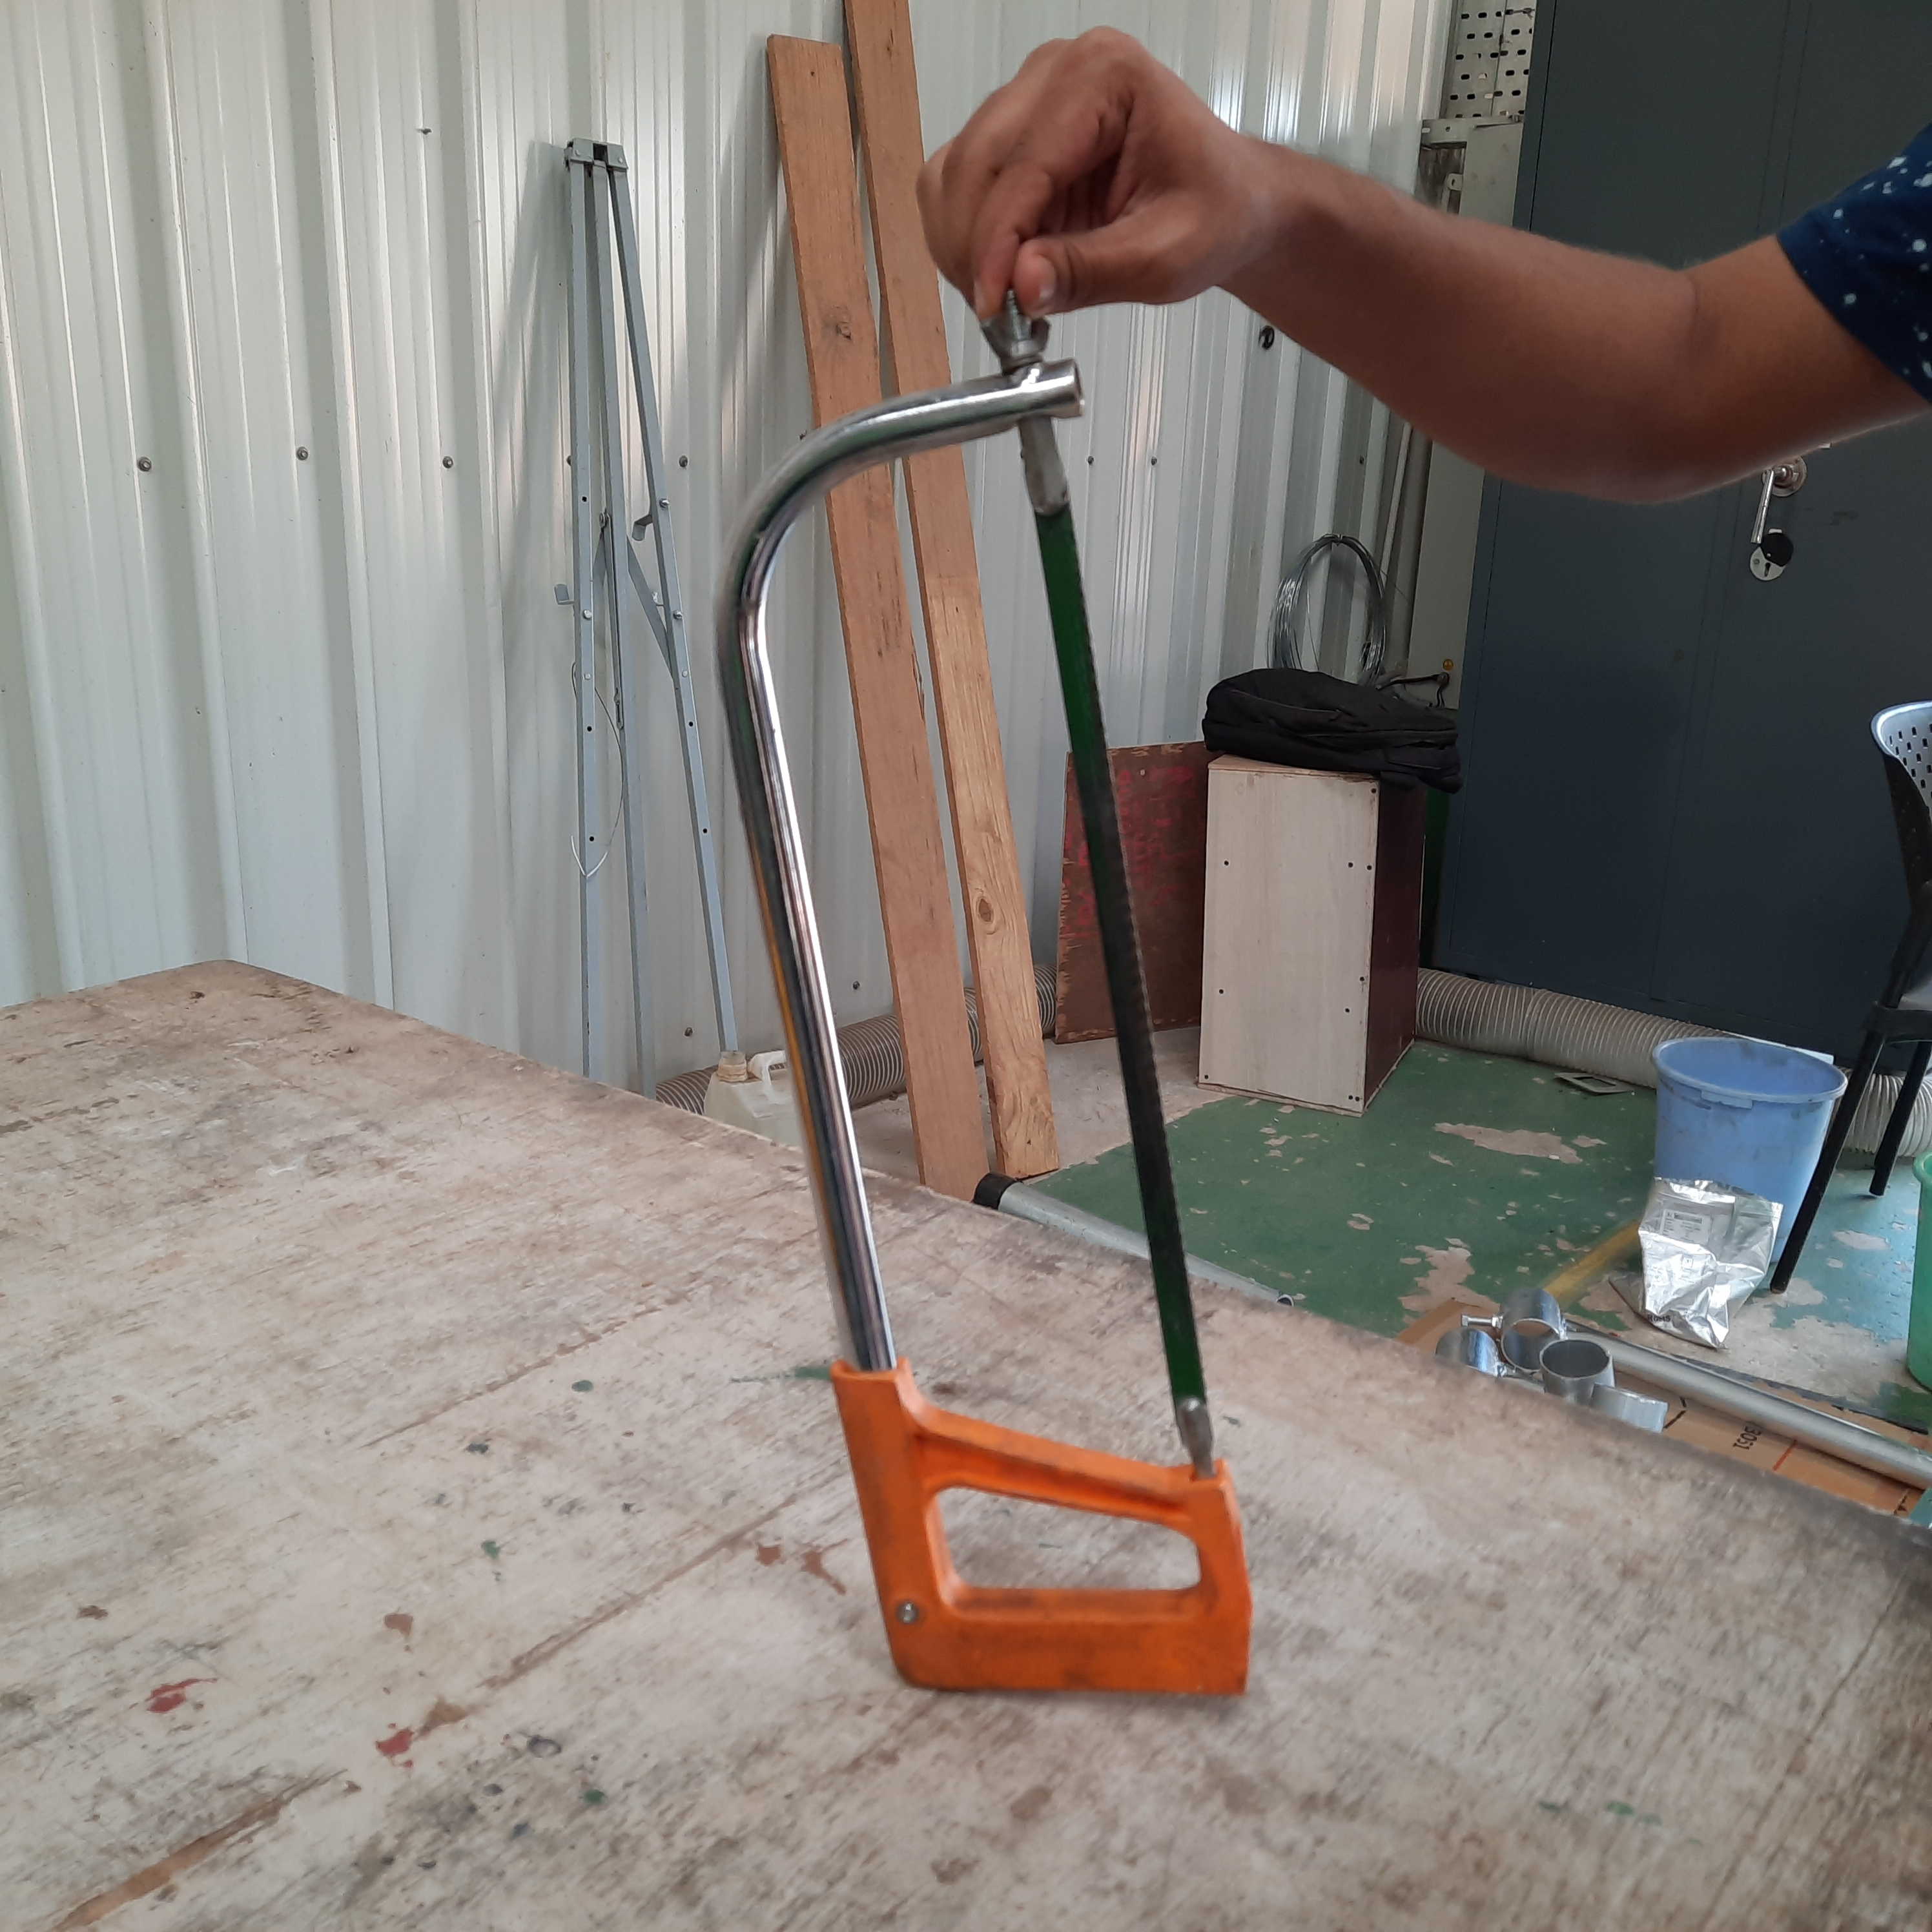Hexaframe: (646, 294, 1336, 1764)
